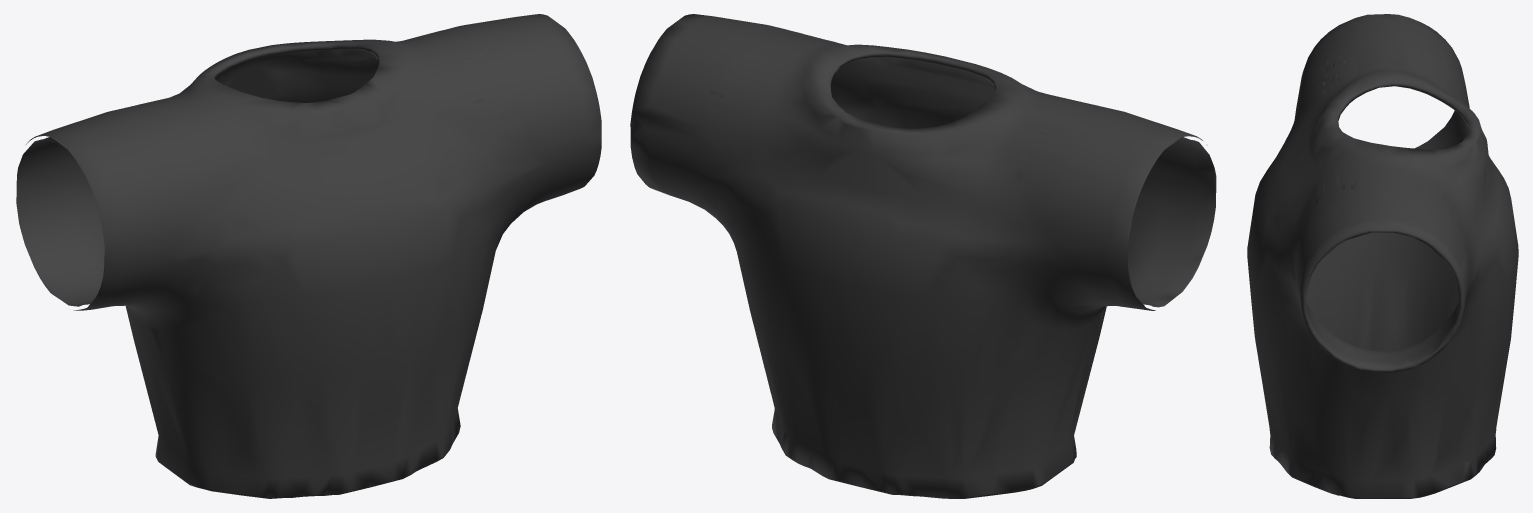
Rendered from gear-mail.glb.
3 views of the same model, side by side, from view 1: azimuth 30°, elevation 25°; view 2: azimuth 150°, elevation 25°; view 3: azimuth 270°, elevation 25° (orthographic). The views are drawn at different scales.
Parts seen in each view (by area): view 1: geometry_0; view 2: geometry_0; view 3: geometry_0.
Part boxes in pixels (x1=…): geometry_0: x1=16, y1=14, x2=601, y2=498; geometry_0: x1=630, y1=14, x2=1216, y2=498; geometry_0: x1=1247, y1=14, x2=1518, y2=498.
Bounding box in the file's own units: 0.6503 × 0.4603 × 0.346.
1 material, 1 textured.
